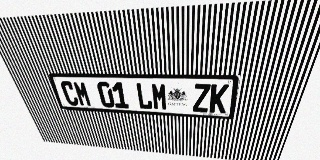0: (96, 82, 115, 108)
1: (110, 82, 129, 108)
C: (59, 81, 80, 106)
K: (209, 84, 229, 113)
L: (135, 82, 153, 110)
M: (72, 81, 93, 107), (151, 83, 168, 110)
Z: (193, 84, 211, 112)
